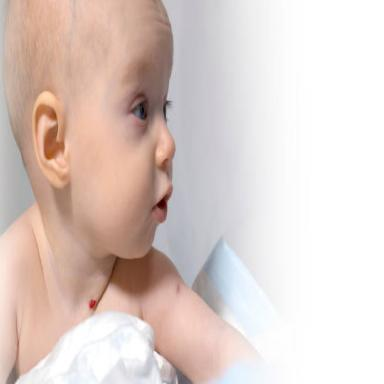Hemangiome: (89, 300, 96, 310)
